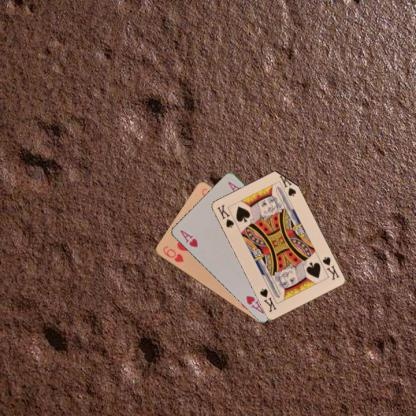6h: (160, 244, 184, 264)
Ah: (177, 227, 199, 249)
Ks: (214, 202, 235, 229), (320, 254, 340, 281)
